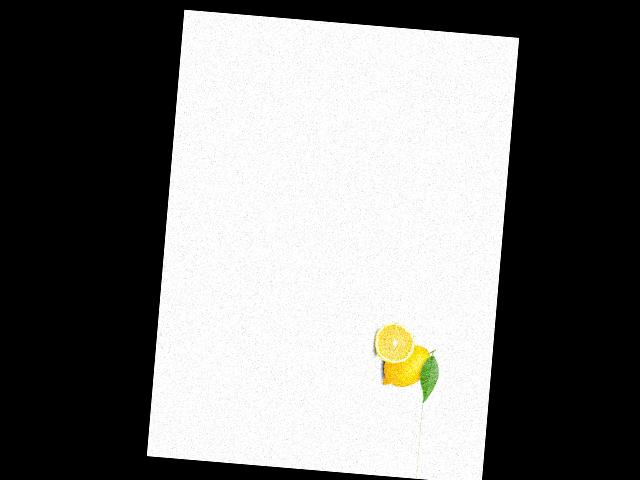lemon: (378, 339, 438, 395)
